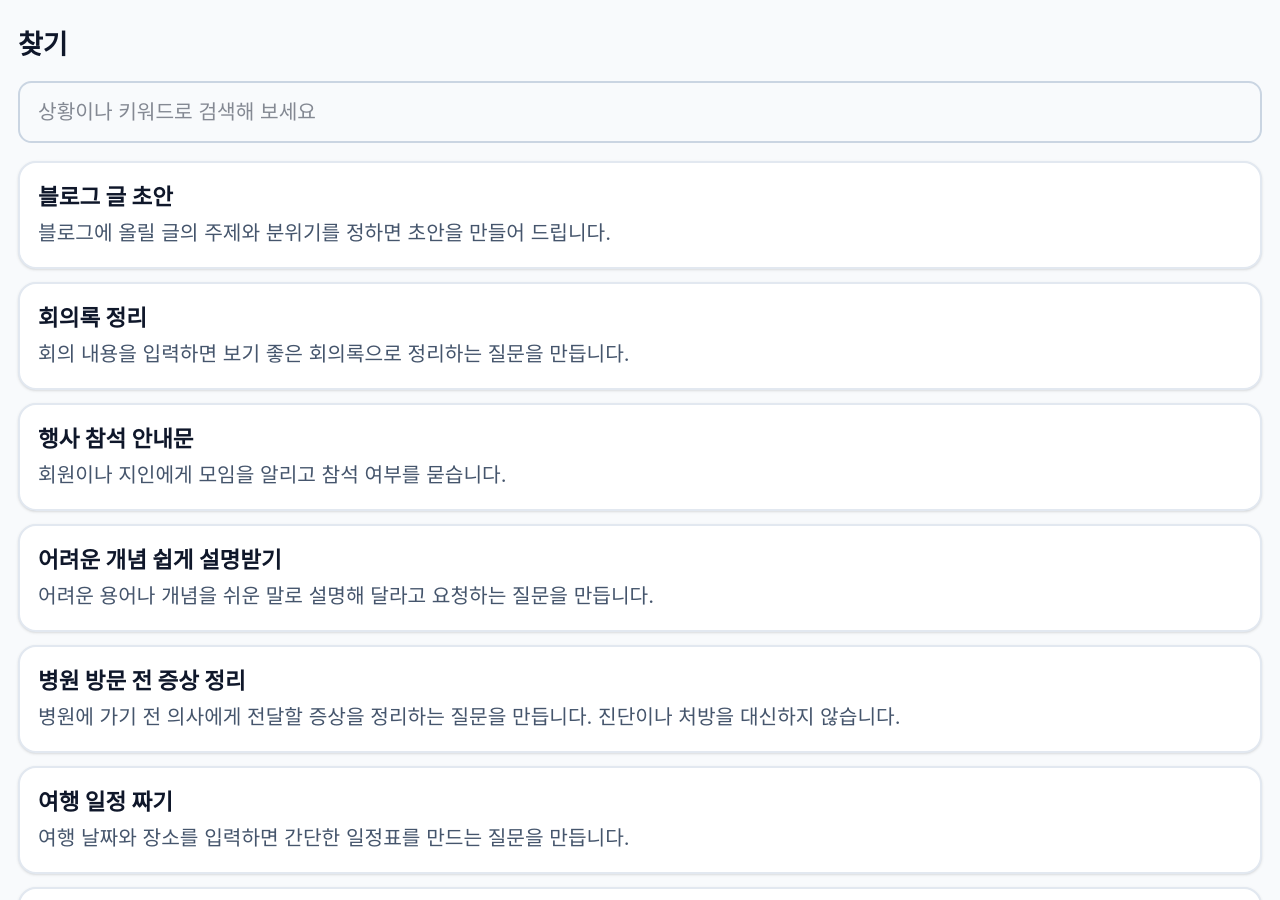
FindPage › 일치하는 템플릿이 없으면 안내 문구를 보여준다
Type "존재하지않는검색어입니다" into the search field with placeholder "상황이나 키워드로 검색해 보세요" at (640, 112), box [18,81,1262,144]
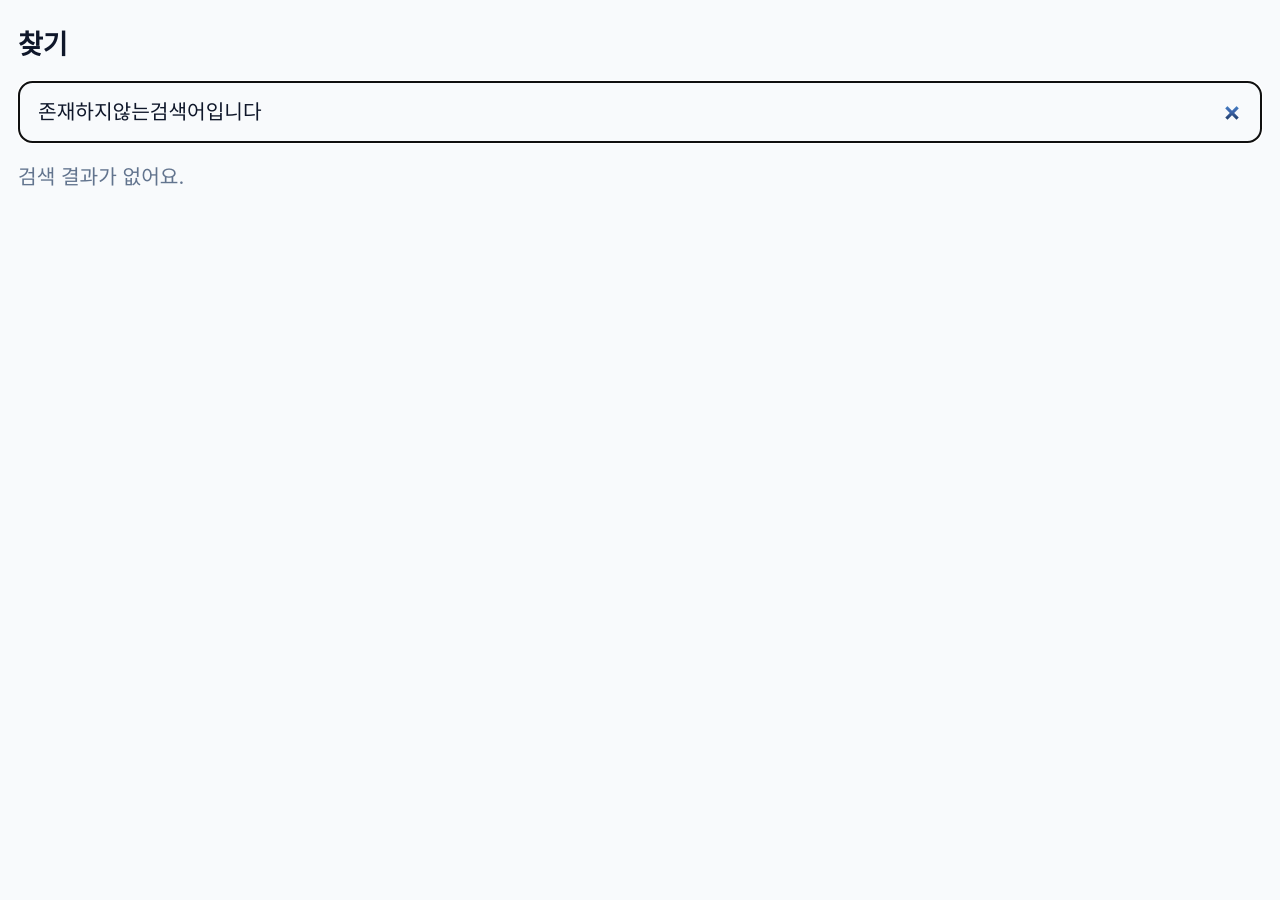
Check: the text "검색 결과가 없어요." is shown, box [18,164,184,190]
